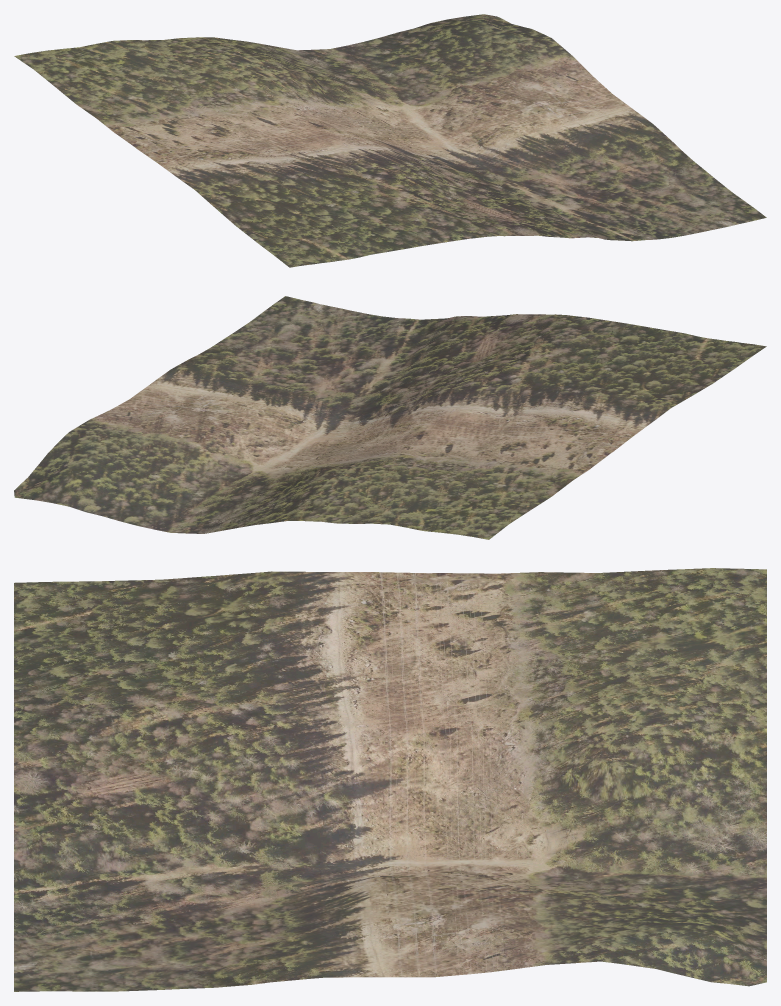
Rendered from CM_Terrain_24493735_6816517.fbx.
3 views of the same model, one above another, from view 1: azimuth 30°, elevation 25°; view 2: azimuth 150°, elevation 25°; view 3: azimuth 270°, elevation 25° (orthographic). The views are drawn at different scales.
Visible parts, largest first — view 1: CM_Terrain_24493735_6816517_LOD0; view 2: CM_Terrain_24493735_6816517_LOD0; view 3: CM_Terrain_24493735_6816517_LOD0.
Part boxes in pixels (x1=…): CM_Terrain_24493735_6816517_LOD0: x1=14, y1=14, x2=766, y2=267; CM_Terrain_24493735_6816517_LOD0: x1=14, y1=296, x2=766, y2=539; CM_Terrain_24493735_6816517_LOD0: x1=14, y1=568, x2=766, y2=991.
Size of what is drawn, in the model's own units: 205 by 31.69 by 205.
